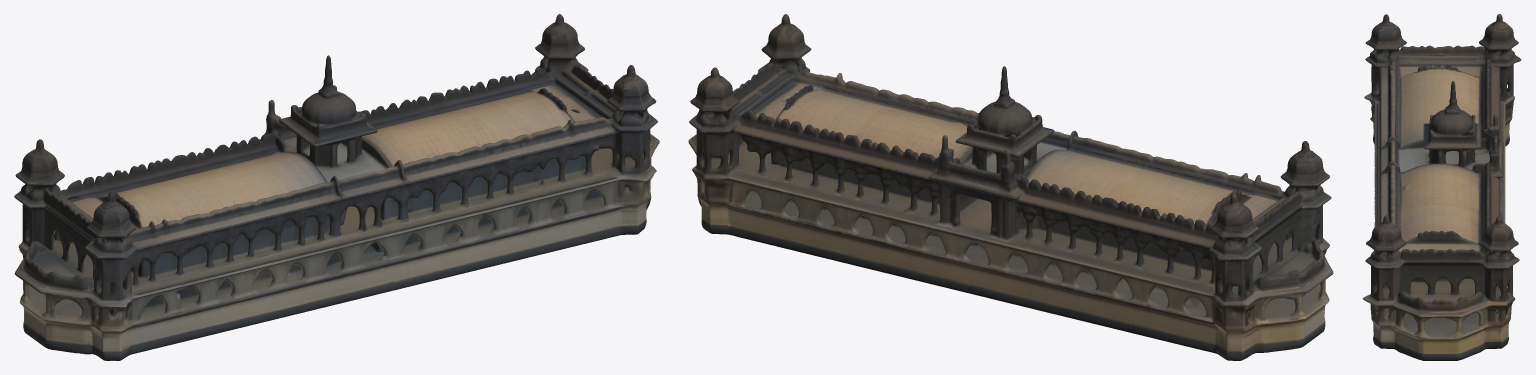
Rendered from mandu_jahaz_mahal.glb.
The picture shows the model from 3 angles, left to right: view 1: azimuth 30°, elevation 25°; view 2: azimuth 150°, elevation 25°; view 3: azimuth 270°, elevation 25°; orthographic projection. The views are drawn at different scales.
Parts seen in each view (by area): view 1: tripo_node_332eefa6-9f0c-4cd6-8878-324da45828d9; view 2: tripo_node_332eefa6-9f0c-4cd6-8878-324da45828d9; view 3: tripo_node_332eefa6-9f0c-4cd6-8878-324da45828d9.
Part boxes in pixels (bbox=[...]): tripo_node_332eefa6-9f0c-4cd6-8878-324da45828d9: bbox=[14, 14, 659, 360]; tripo_node_332eefa6-9f0c-4cd6-8878-324da45828d9: bbox=[688, 14, 1333, 360]; tripo_node_332eefa6-9f0c-4cd6-8878-324da45828d9: bbox=[1362, 14, 1521, 360].
Size of the model in its own units: 1 by 0.3182 by 0.2804.
1 material, 1 textured.
